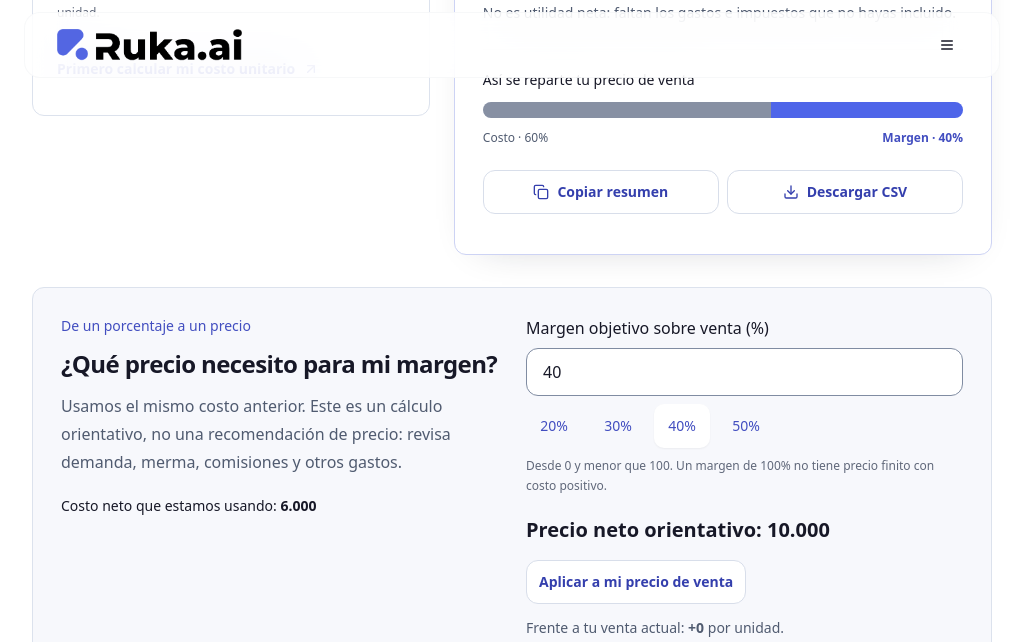
Test: margin interaction › explains unreachable target, exposes validation and resets locally
(page scrolled)
Replace the text in the field labelled "Margen objetivo sobre venta (%)" with "100" at (744, 372), box top-left (526, 348), bottom-right (963, 396)
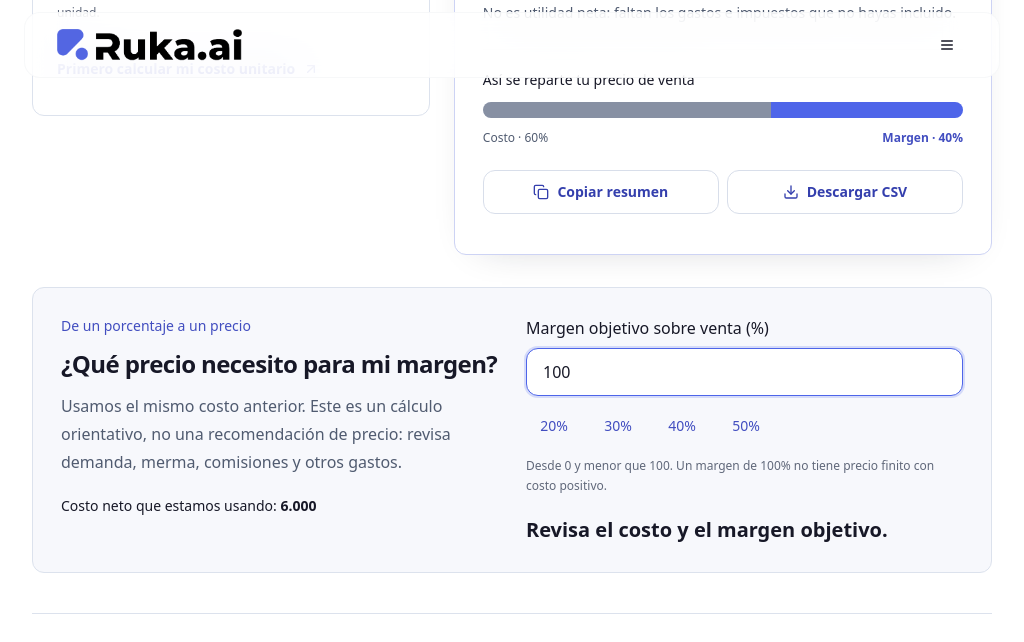
Press Tab
(page scrolled)
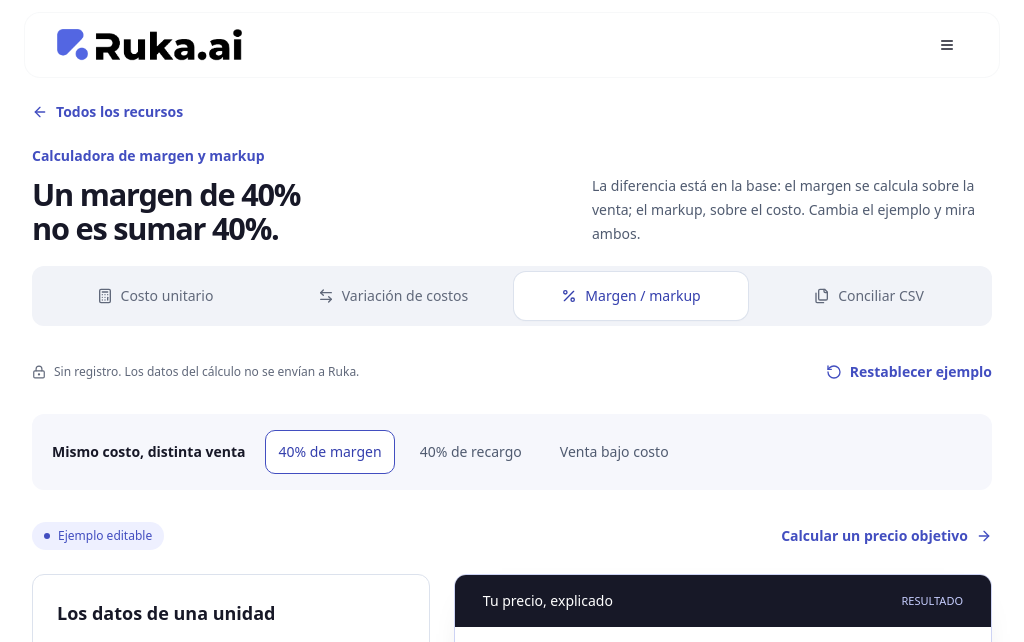
Click the button "Restablecer ejemplo" at (909, 372), box top-left (826, 350), bottom-right (992, 394)
(page scrolled)
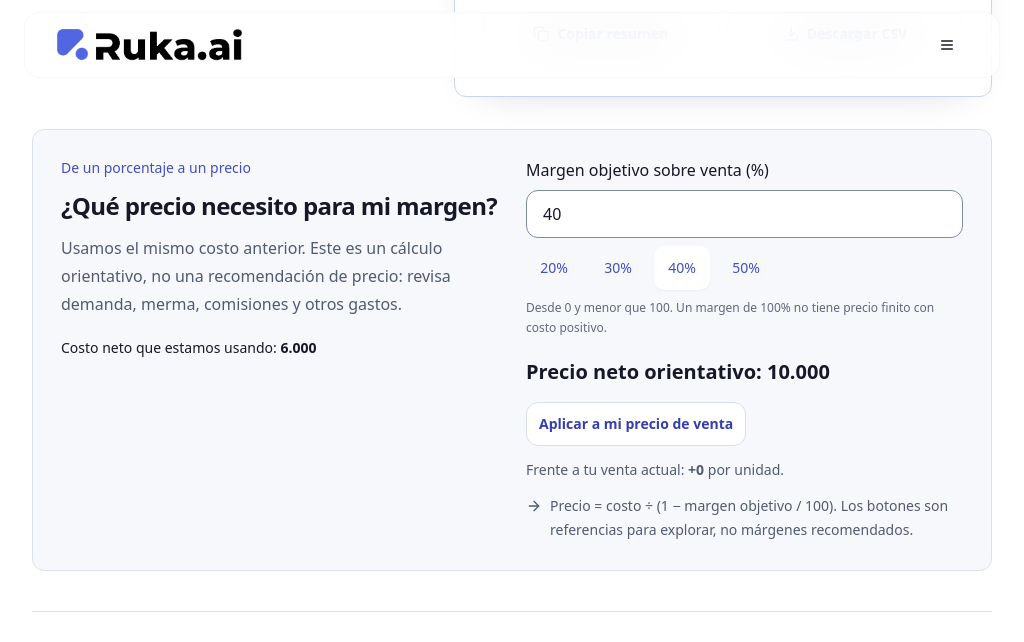
Check: the field labelled "Margen objetivo sobre venta (%)" holds "40", box top-left (526, 190), bottom-right (963, 238)
Check: the text "Precio neto orientativo: 10.000" is shown, box top-left (526, 358), bottom-right (830, 385)
